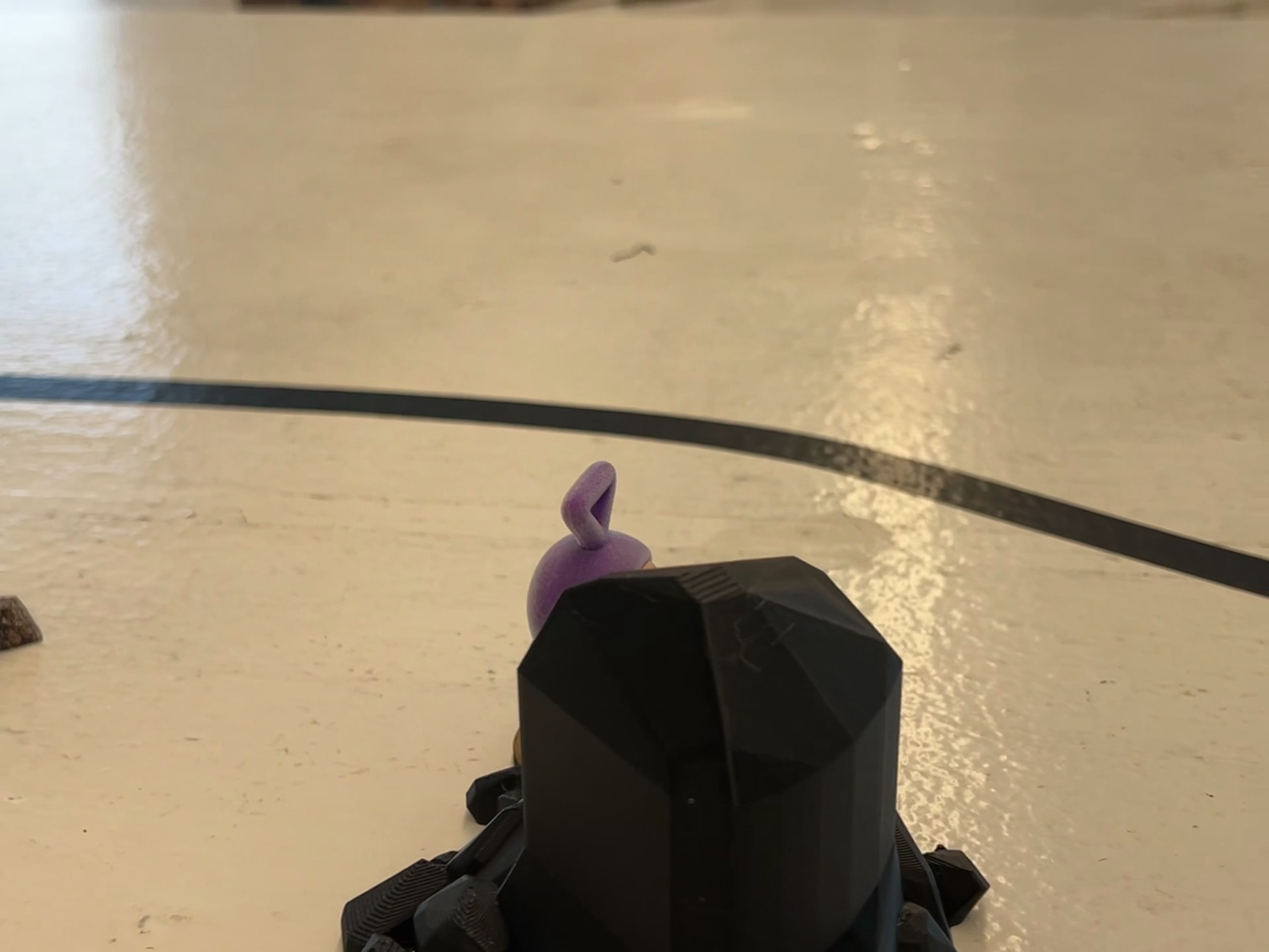teletubby: (527, 461, 652, 637)
